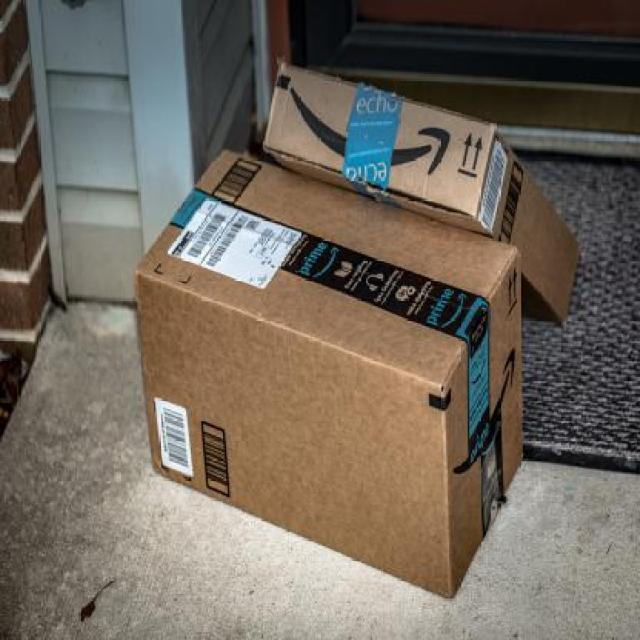cardboxes: (134, 142, 535, 613), (253, 43, 588, 340)
